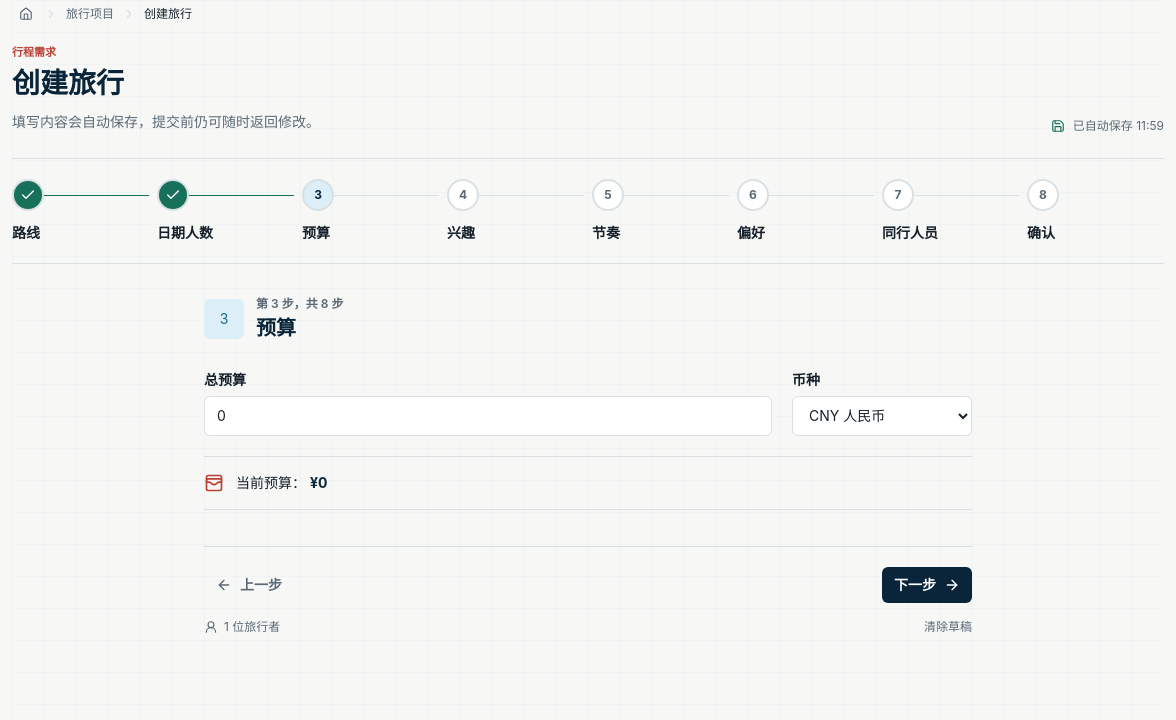
Test case: TripWizardPage › rejects a zero budget before advancing
Click the button "下一步" at (927, 585), box [882,567,972,603]
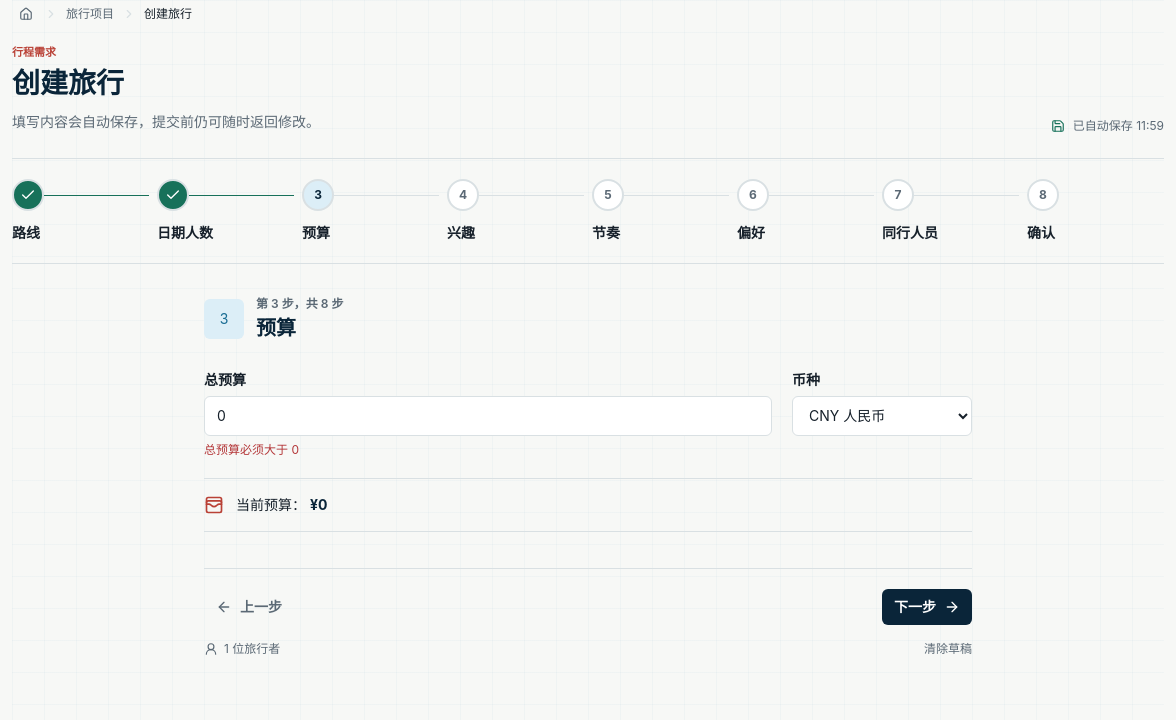
expect the heading "预算" is shown: met, box [256,316,296,340]
expect the text "总预算必须大于 0" is shown: met, box [204,442,299,457]
